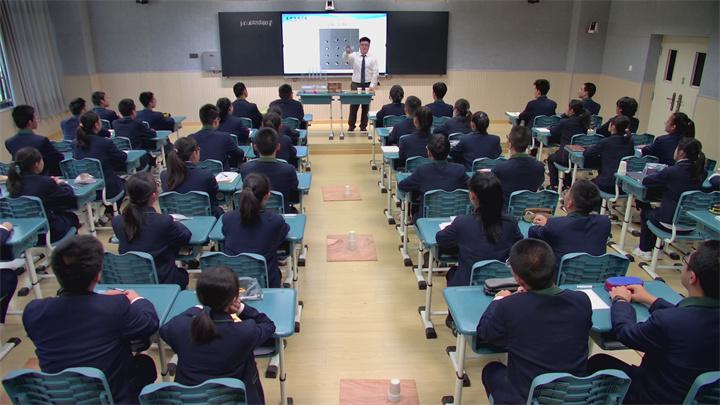listen: (24, 240, 154, 362), (481, 245, 592, 366), (160, 271, 279, 369), (611, 255, 714, 366), (438, 176, 512, 258), (210, 179, 282, 256), (534, 181, 603, 242), (69, 112, 128, 175), (8, 150, 75, 203), (116, 180, 184, 229), (408, 138, 464, 190), (588, 114, 636, 173), (192, 105, 240, 162), (495, 129, 553, 175), (656, 140, 704, 195), (7, 97, 59, 147), (154, 138, 212, 180), (245, 134, 293, 181), (401, 106, 440, 145), (272, 80, 310, 119), (133, 89, 169, 127), (466, 112, 493, 162), (523, 79, 556, 116), (424, 79, 456, 108), (576, 79, 602, 107)
